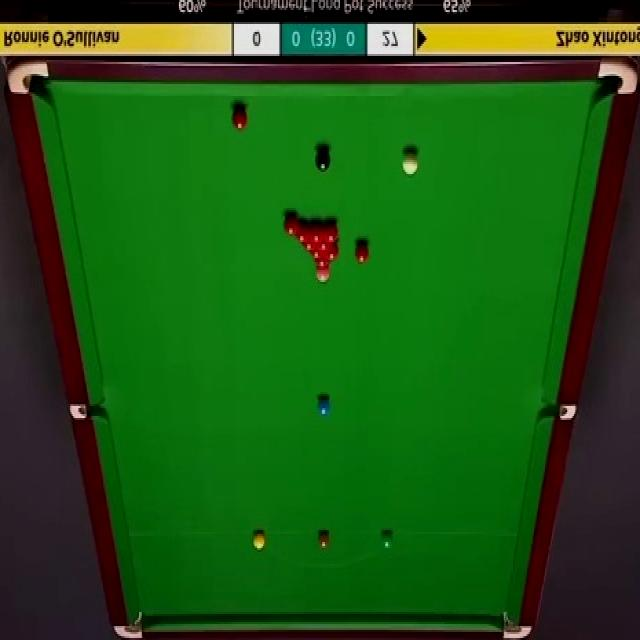black-ball: (314, 146, 332, 172)
blue-ball: (314, 396, 329, 418)
brown-ball: (319, 530, 331, 550)
green-ball: (380, 530, 393, 551)
pink-ball: (314, 269, 330, 284)
red-ball: (232, 104, 248, 130), (324, 220, 339, 243), (295, 222, 310, 244), (354, 242, 368, 264), (283, 214, 297, 236), (309, 222, 324, 242), (325, 244, 339, 262), (302, 240, 318, 251), (317, 240, 333, 251), (309, 249, 325, 260), (314, 259, 331, 269)
white-ball: (402, 150, 418, 176)
yellow-ball: (253, 530, 265, 550)
